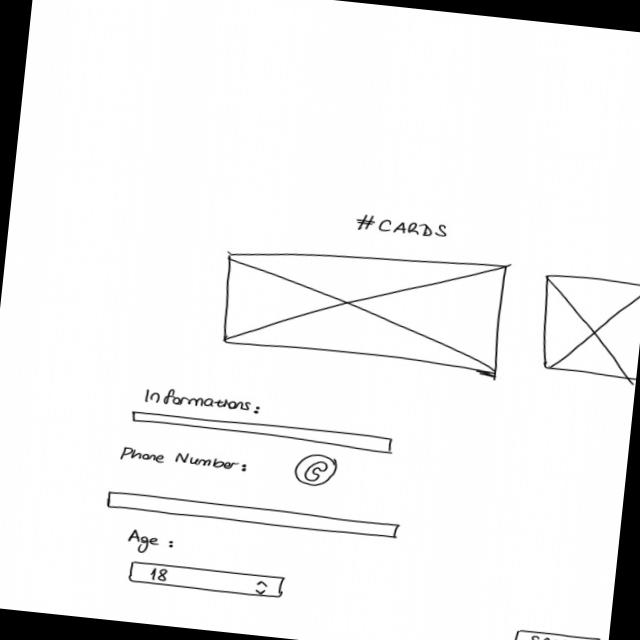button: (508, 628, 603, 640)
icon-button: (293, 452, 340, 490)
image: (219, 237, 511, 375), (535, 272, 640, 381)
input: (106, 490, 404, 541), (130, 409, 400, 456)
label: (143, 386, 267, 419), (118, 445, 250, 475), (354, 213, 451, 243), (125, 528, 178, 558)
number-input: (127, 560, 288, 601)
